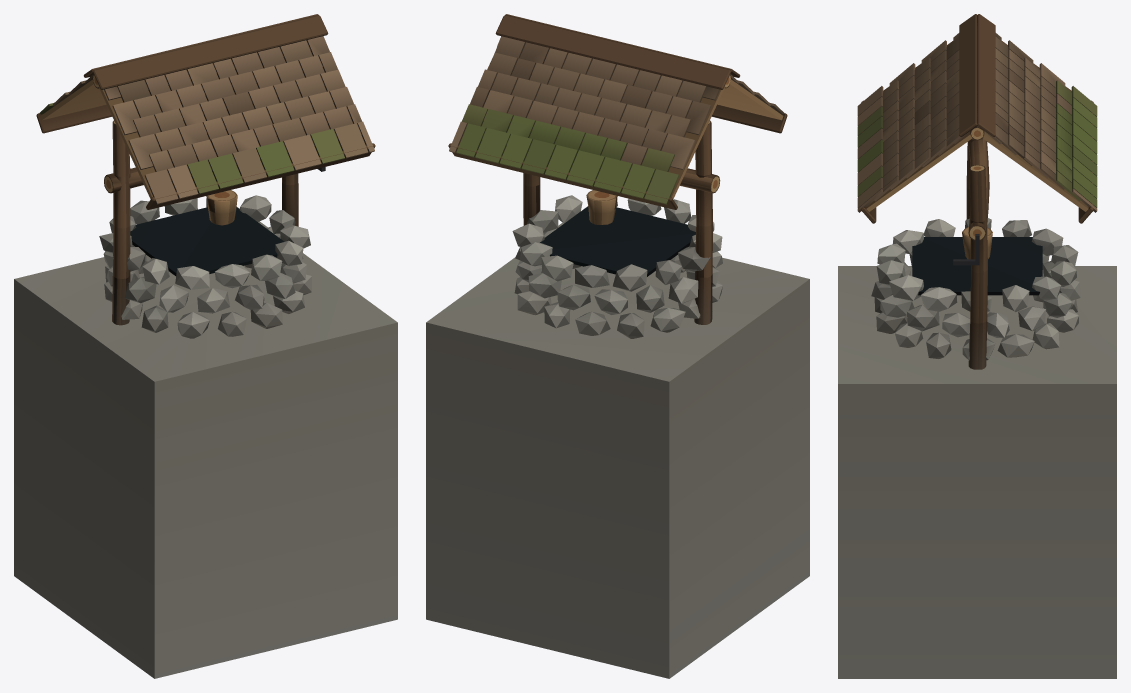
Rendered from kuyu.glb.
3 views of the same model, side by side, from view 1: azimuth 30°, elevation 25°; view 2: azimuth 150°, elevation 25°; view 3: azimuth 270°, elevation 25° (orthographic).
Parts seen in each view (by area): view 1: stone-plinth-001, shingle-001, water-001, stone-004, dark-003, stone-002, stone-003, log-001, shingle-002, dark-001, dark-002, wood-bucket-001 (+1 smaller); view 2: stone-plinth-001, shingle-002, water-001, stone-004, dark-003, stone-003, stone-002, log-001, shingle-001, dark-002, dark-001, wood-bucket-001 (+2 smaller); view 3: stone-plinth-001, shingle-001, shingle-002, stone-004, water-001, stone-003, dark-003, stone-002, log-002, log-003.
Part boxes in pixels (x1,y1,x2,y2): stone-plinth-001: (14,221,397,678); shingle-001: (99,36,374,204); water-001: (130,207,284,275); stone-004: (99,195,310,289); dark-003: (83,14,328,89); stone-002: (104,254,311,338); stone-003: (103,226,306,313); log-001: (112,120,130,325); shingle-002: (40,74,106,120); dark-001: (146,143,375,209); dark-002: (36,104,111,133); wood-bucket-001: (206,190,237,225); stone-plinth-001: (426,222,809,678); shingle-002: (449,36,724,204); water-001: (540,206,695,276); stone-004: (512,195,722,291); dark-003: (495,14,740,89); stone-003: (515,227,722,314); stone-002: (514,254,722,338); log-001: (694,120,712,324); shingle-001: (717,74,783,120); dark-002: (448,143,677,209); dark-001: (712,104,787,133); wood-bucket-001: (586,190,617,224); stone-plinth-001: (838,266,1116,678); shingle-001: (857,33,977,212); shingle-002: (978,33,1097,212); stone-004: (876,218,1078,311); water-001: (912,237,1042,295); stone-003: (871,253,1080,337); dark-003: (959,14,995,136); stone-002: (874,295,1078,360); log-002: (968,165,987,369); log-003: (953,139,989,265).
Size of the model in its own units: 3 by 6.54 by 3.
